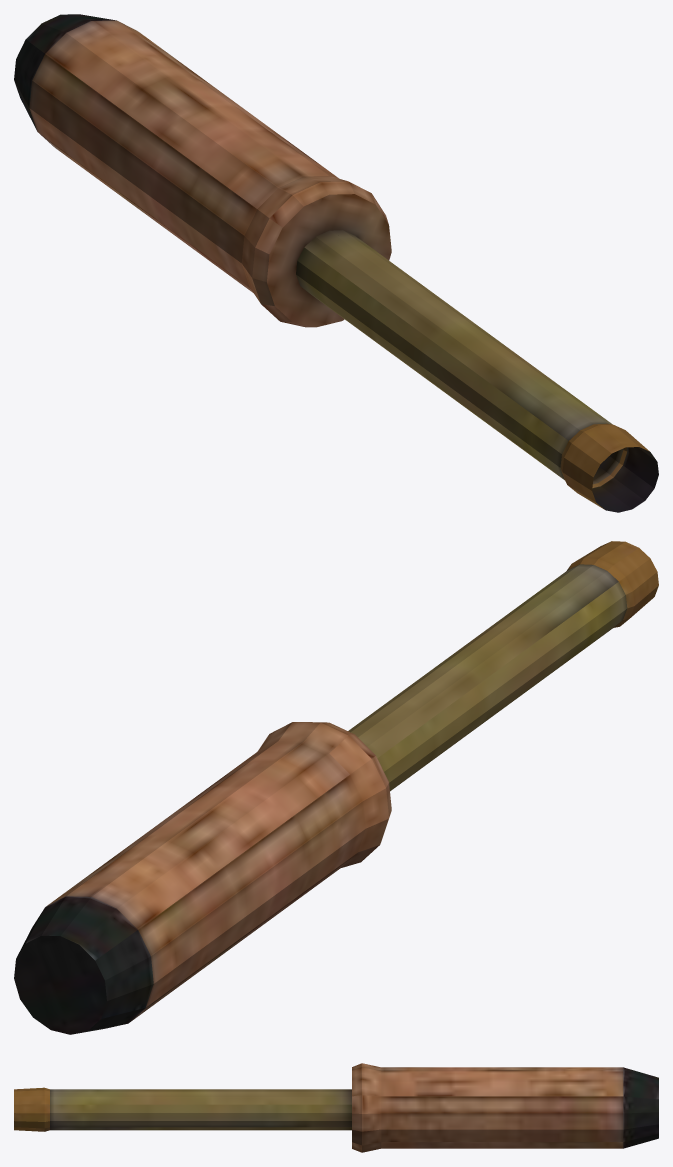
Rendered from animal horn cutting tool.fbx.
3 views of the same model, one above another, from view 1: azimuth 30°, elevation 25°; view 2: azimuth 150°, elevation 25°; view 3: azimuth 270°, elevation 25° (orthographic). The views are drawn at different scales.
Visible parts, largest first — view 1: animal horn cutting tool; view 2: animal horn cutting tool; view 3: animal horn cutting tool.
Boxes of the visible parts, x1=… form: animal horn cutting tool: x1=14, y1=14, x2=658, y2=512; animal horn cutting tool: x1=14, y1=541, x2=658, y2=1034; animal horn cutting tool: x1=14, y1=1063, x2=658, y2=1152.
Size of the model in its own units: 160 by 158 by 1142.
